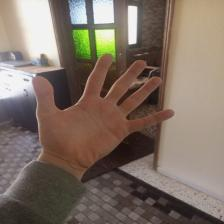five: (34, 54, 176, 157)
